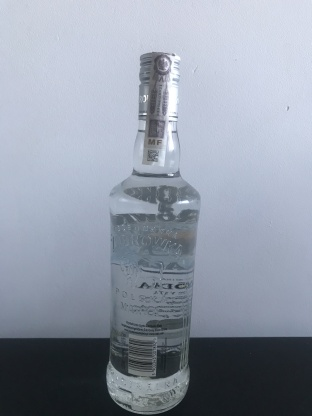nakretka: (135, 47, 182, 125)
